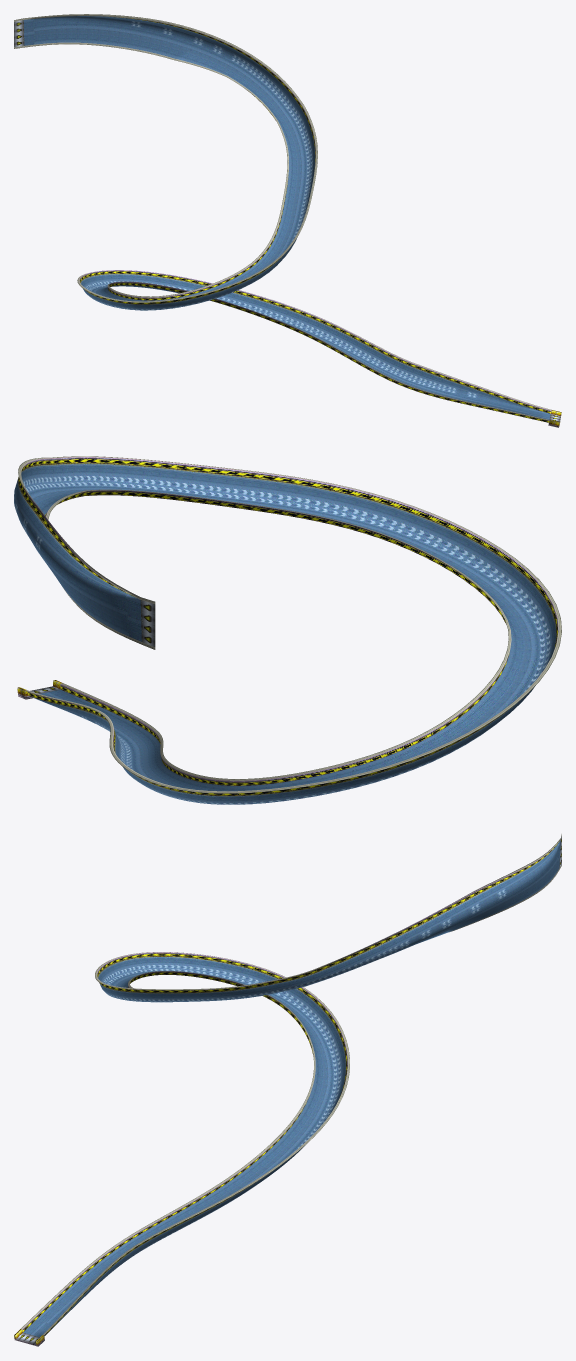
File: Tubo2.fbx
3 views of the same model, one above another, from view 1: azimuth 30°, elevation 25°; view 2: azimuth 150°, elevation 25°; view 3: azimuth 270°, elevation 25° (orthographic). The views are drawn at different scales.
Parts seen in each view (by area): view 1: part1.002; view 2: part1.002; view 3: part1.002.
Part boxes in pixels (x1,y1,x2,y2): part1.002: (14,14,561,427); part1.002: (14,456,561,804); part1.002: (14,834,561,1346).
Bounding box in the file's own units: 126776 × 95788 × 138140.
Materials: 9 (9 with a texture image).
